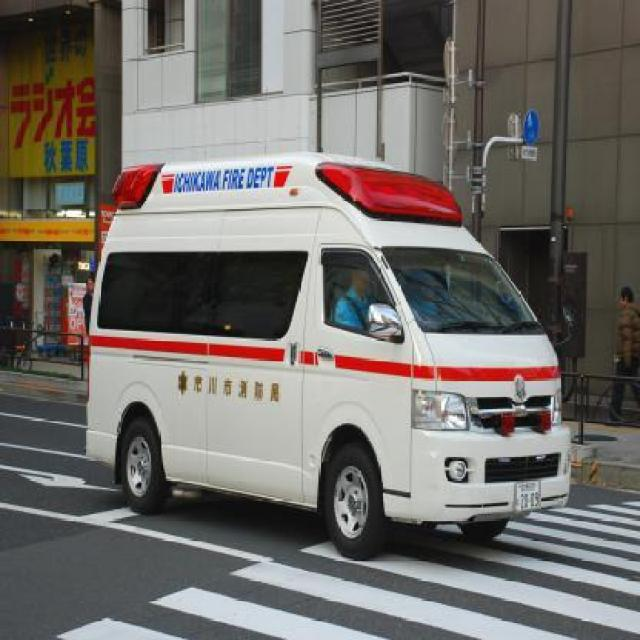Ambulance: (77, 148, 577, 558)
